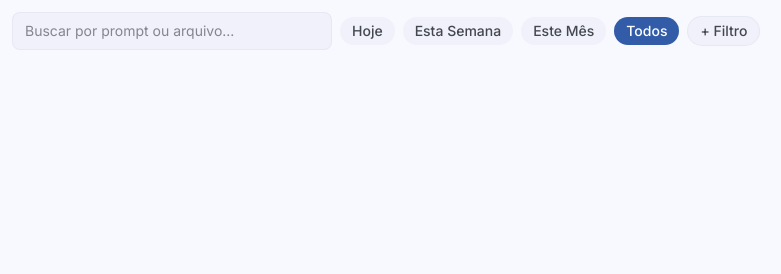
Test: HistoryFilterBar › opens popover with filter names when + Filtro clicked
Click the button "+ Filtro". click: (724, 31)
box: [687, 16, 760, 46]
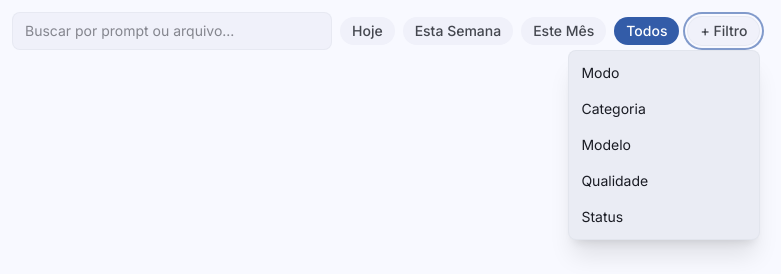
expect the text "Modo" is shown: met, box [581, 63, 619, 83]
expect the text "Categoria" is shown: met, box [581, 99, 646, 119]
expect the text "Modelo" is shown: met, box [581, 135, 631, 155]
